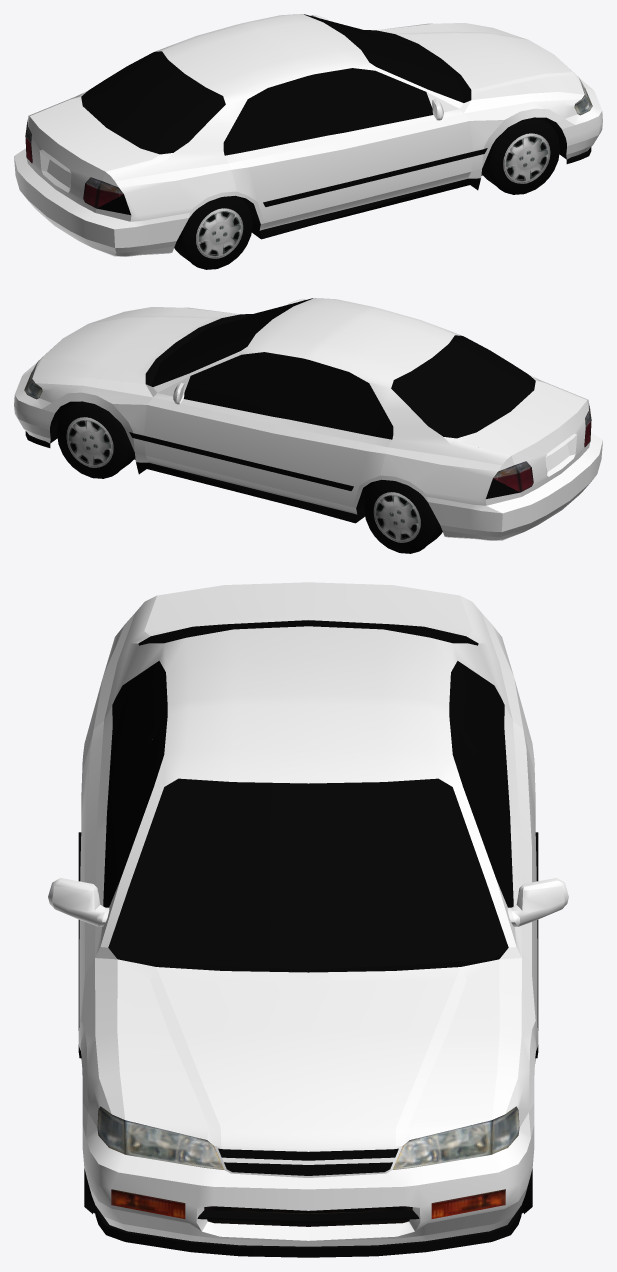
File: accord94.glb
3 renders of one model, top to bottom at view 1: azimuth 30°, elevation 25°; view 2: azimuth 150°, elevation 25°; view 3: azimuth 270°, elevation 25°, orthographic. The views are drawn at different scales.
Visible parts, largest first — view 1: accord94; view 2: accord94; view 3: accord94.
Part boxes in pixels (x1,y1,x2,y2): accord94: [14, 14, 602, 269]; accord94: [14, 298, 602, 553]; accord94: [48, 582, 568, 1257].
Bounding box in the file's own units: 4.68 × 1.34 × 2.
8 materials, 3 textured.
